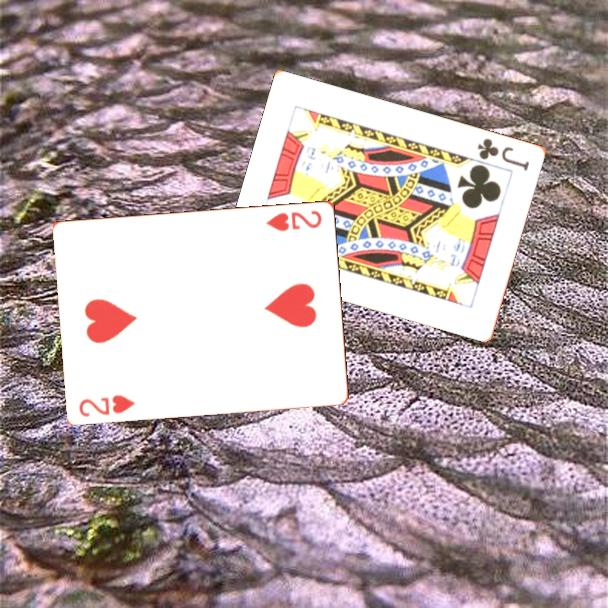c11: (474, 135, 532, 173)
h02: (263, 206, 325, 234), (76, 391, 138, 419)
